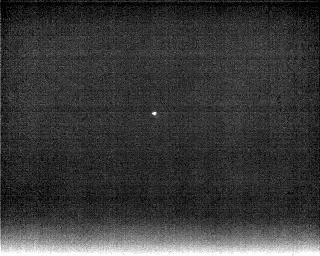BIRD: (150, 108, 159, 118)
